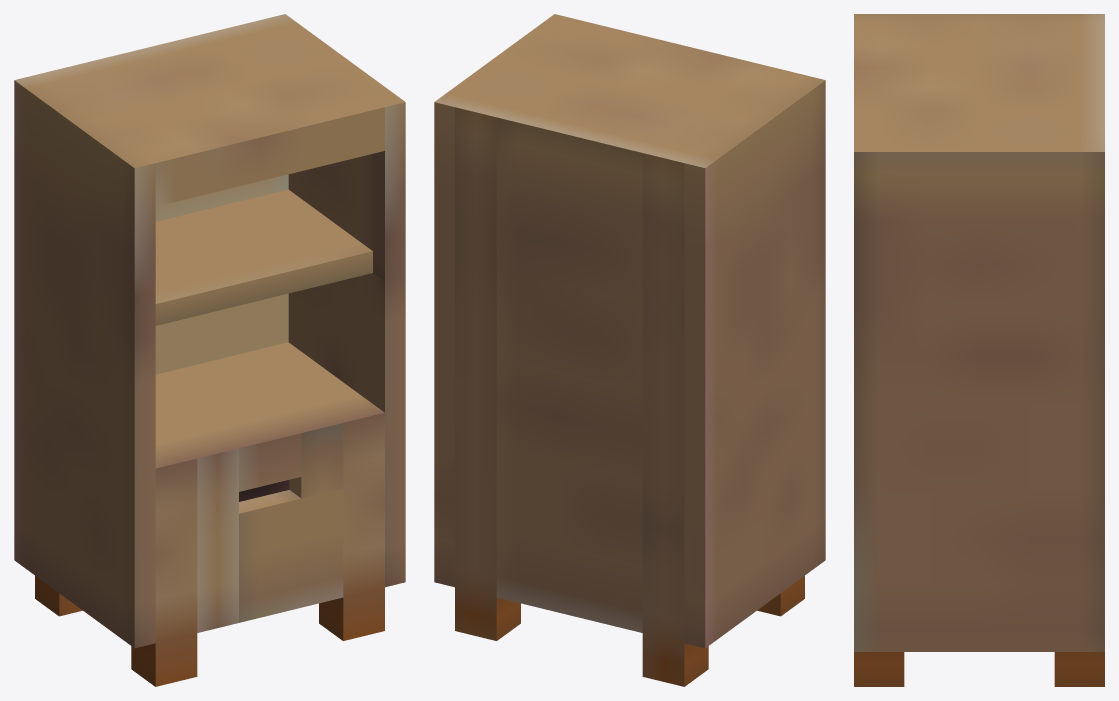
The model's file is BookshelfWithSlidingCabinet_01.fbx.
3 renders of one model, left to right at view 1: azimuth 30°, elevation 25°; view 2: azimuth 150°, elevation 25°; view 3: azimuth 270°, elevation 25°, orthographic. The views are drawn at different scales.
Visible parts, largest first — view 1: BookshelfWithSlidingCabinet_01; view 2: BookshelfWithSlidingCabinet_01; view 3: BookshelfWithSlidingCabinet_01.
Boxes of the visible parts, x1,y1,x2,y2 form: BookshelfWithSlidingCabinet_01: [14, 14, 405, 686]; BookshelfWithSlidingCabinet_01: [434, 14, 825, 686]; BookshelfWithSlidingCabinet_01: [854, 14, 1104, 686].
Bounding box in the file's own units: 65 × 50 × 120.
Materials: 1 (1 with a texture image).
